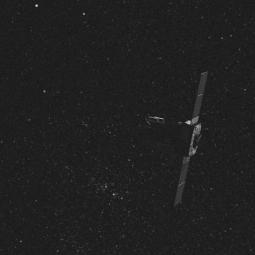soho: (146, 71, 216, 215)
